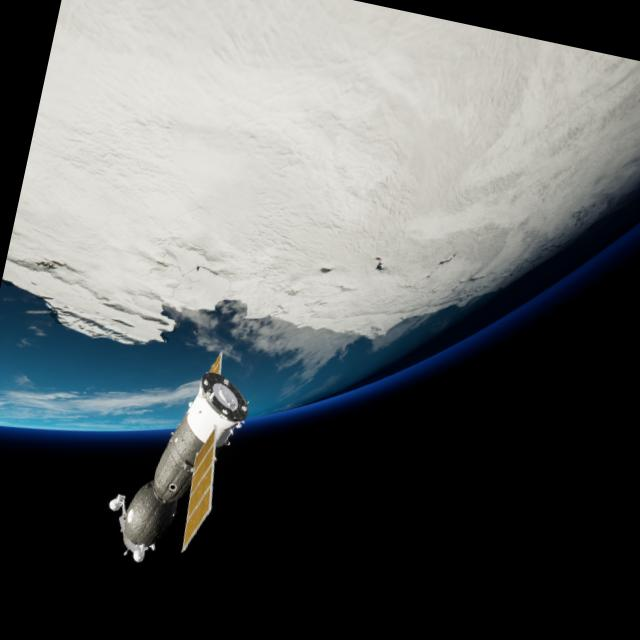Satellites revolving around earth: (96, 332, 262, 580)
